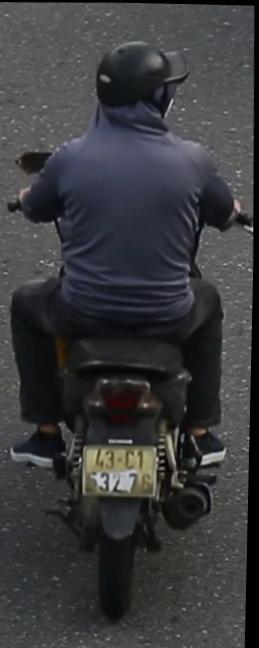LP: (80, 438, 163, 504)
helmet: (88, 33, 181, 144)
